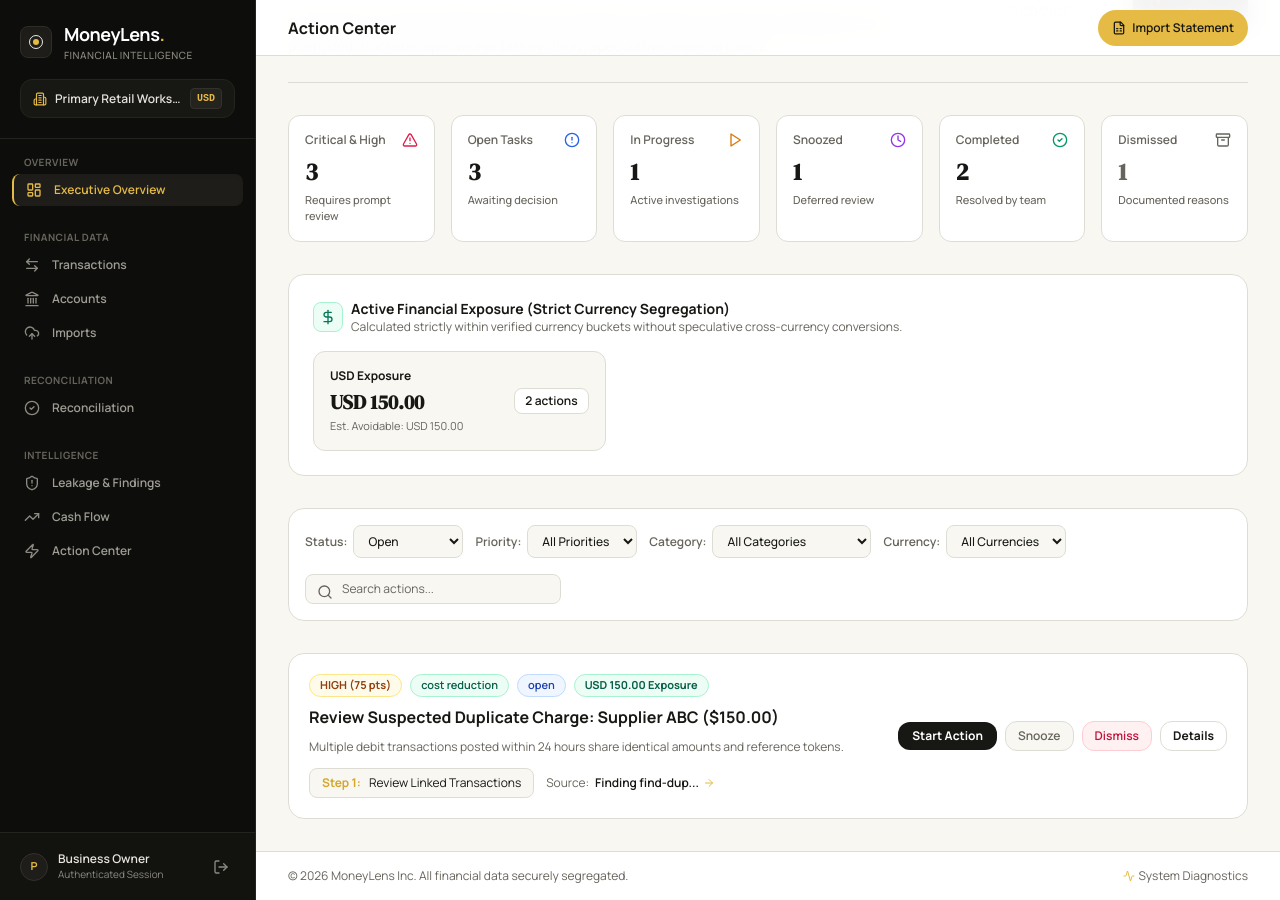
Test: ActionCenterDashboard Component Suite › opens action detail modal when Details button is clicked
The width and height of the screenshot is (1280, 900).
(page scrolled)
Click the button "Details". click: coordinates (1194, 736)
box: 1160,721 -> 1227,751
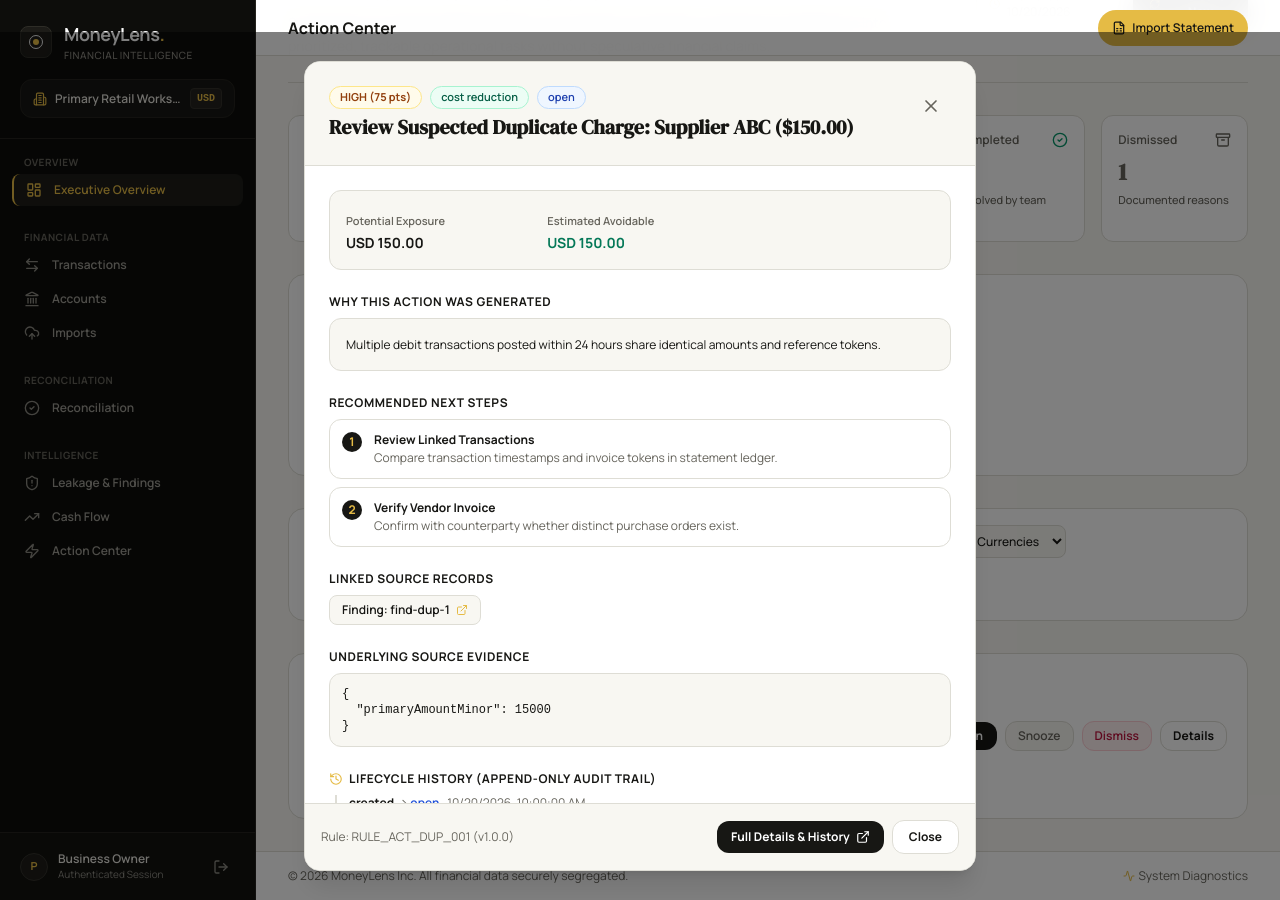
Check: the heading "Why This Action Was Generated" is shown, box 329,292 -> 551,310
Check: the text "Lifecycle History (Append-Only Audit Trail)" is shown, box 349,771 -> 656,787
